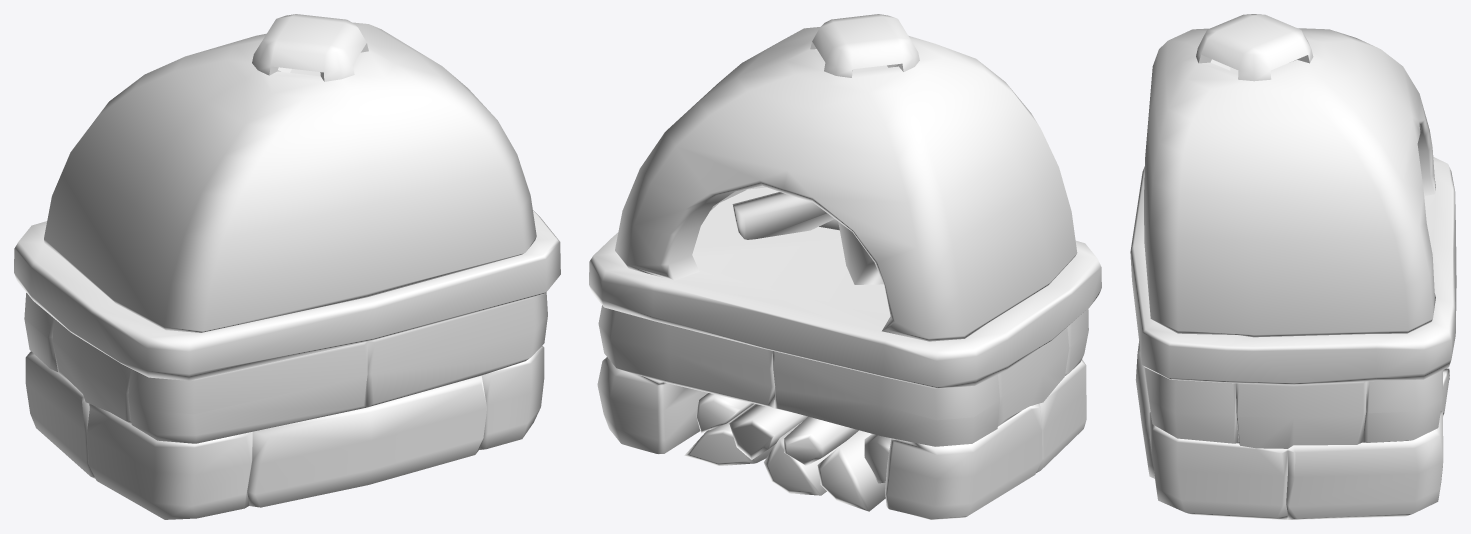
File: P_StoneKitchenOven.glb
3 views of the same model, side by side, from view 1: azimuth 30°, elevation 25°; view 2: azimuth 150°, elevation 25°; view 3: azimuth 270°, elevation 25° (orthographic). The views are drawn at different scales.
Parts seen in each view (by area): view 1: P_StoneKitchenOven; view 2: P_StoneKitchenOven; view 3: P_StoneKitchenOven.
Boxes of the visible parts, <box> form: P_StoneKitchenOven: <box>14,14,560,519</box>; P_StoneKitchenOven: <box>589,14,1101,519</box>; P_StoneKitchenOven: <box>1130,14,1456,519</box>.
Size of the model in its own units: 1.47 by 1.34 by 0.9844.
Materials: 1 (1 with a texture image).
